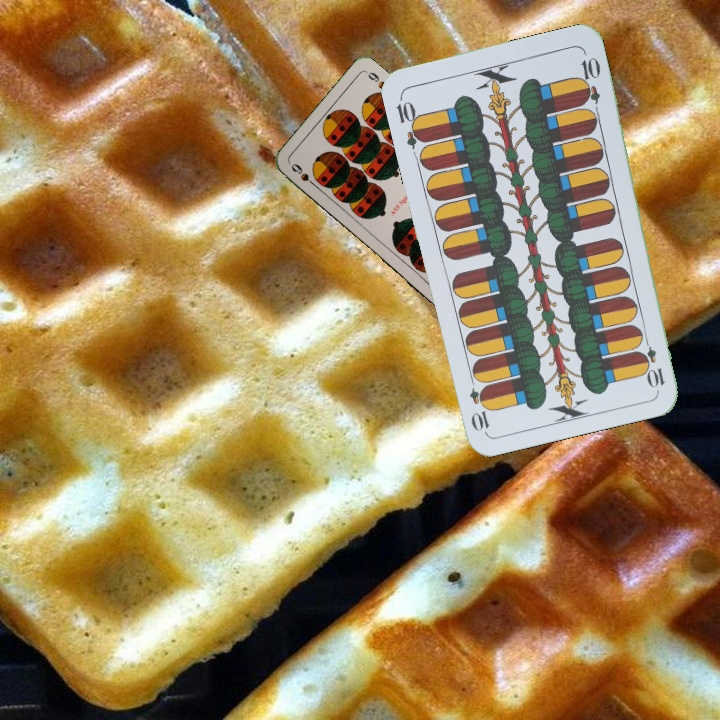E10: (392, 92, 428, 151), (638, 332, 668, 390)
S9: (287, 159, 321, 191)
